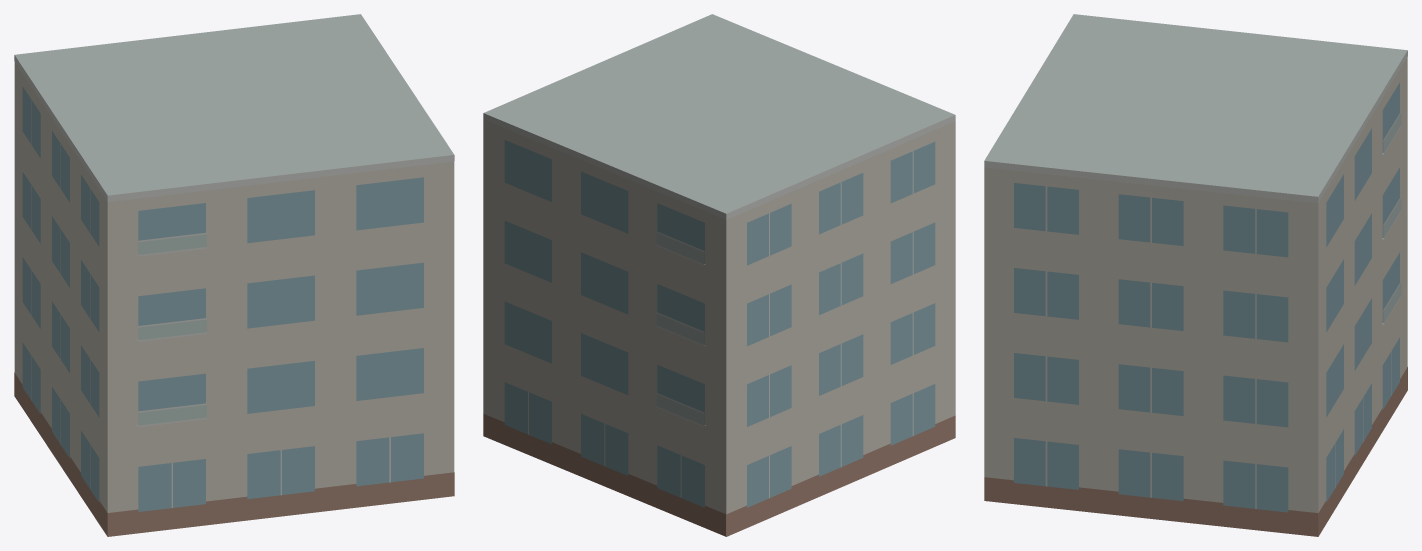
File: survey-upis-32820867.glb
3 views of the same model, side by side, from view 1: azimuth 30°, elevation 25°; view 2: azimuth 150°, elevation 25°; view 3: azimuth 270°, elevation 25° (orthographic). The views are drawn at different scales.
Parts seen in each view (by area): view 1: survey-upis-32820867.tmp; view 2: survey-upis-32820867.tmp; view 3: survey-upis-32820867.tmp.
Part boxes in pixels (x1,y1,x2,y2): survey-upis-32820867.tmp: (14,14,454,536); survey-upis-32820867.tmp: (483,14,955,536); survey-upis-32820867.tmp: (984,14,1407,536).
Size of the model in its own units: 14.77 by 12.8 by 14.46.
